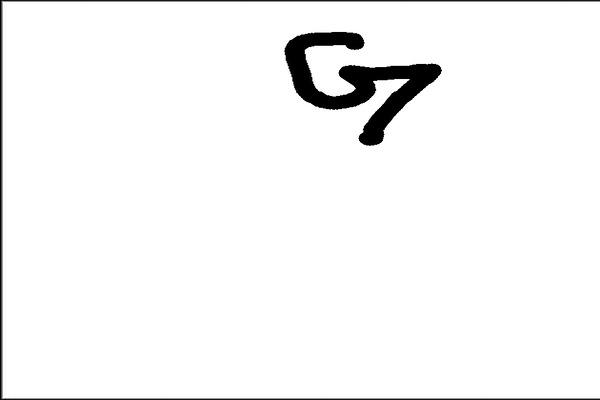G: (280, 28, 444, 150)
